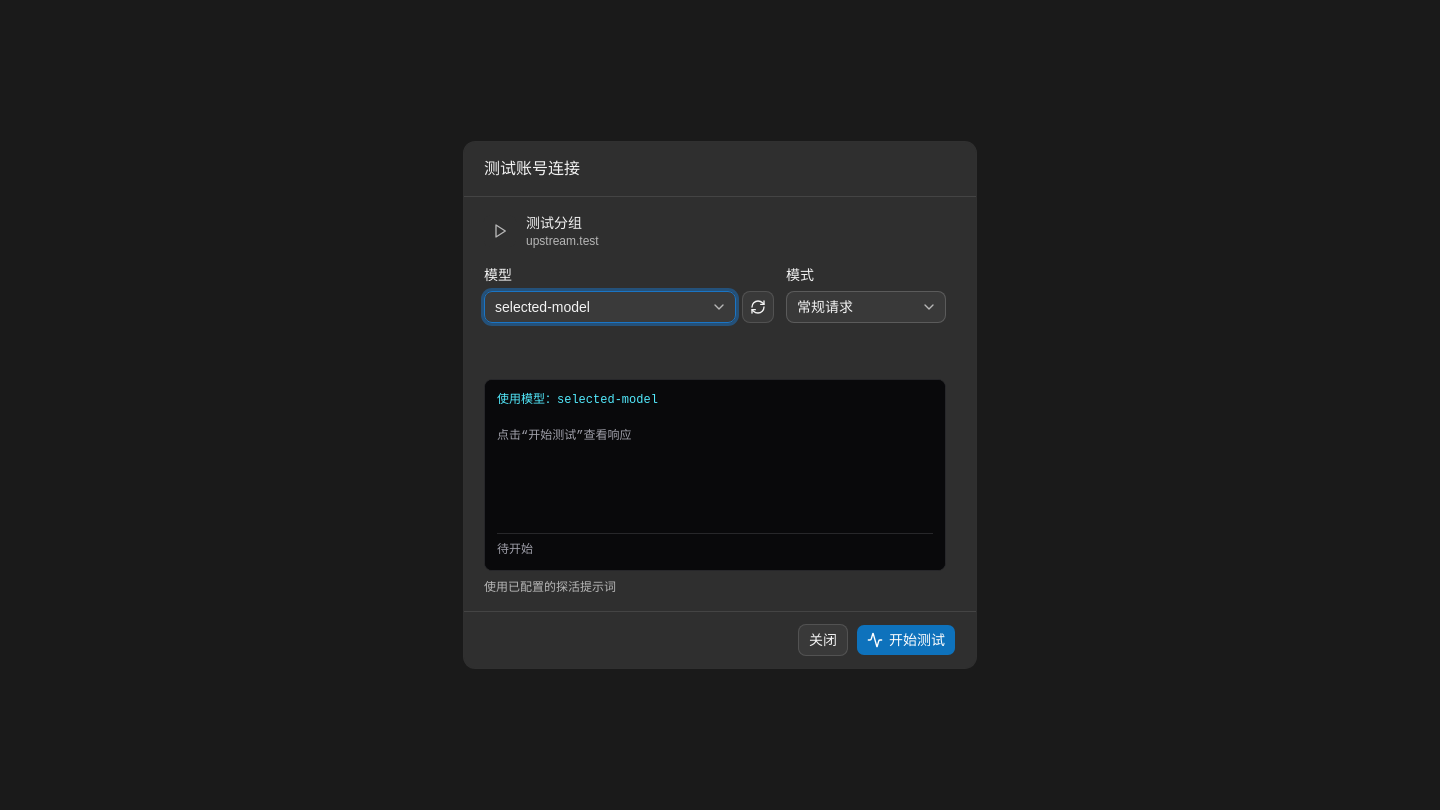
能力题未通过但请求完整时显示检测完成并保留能力异常
expect the button "开始测试" is enabled: met, box [856,624,956,656]
Click the dropdown named "选择测试模式" at (866, 307), box [786,291,946,323]
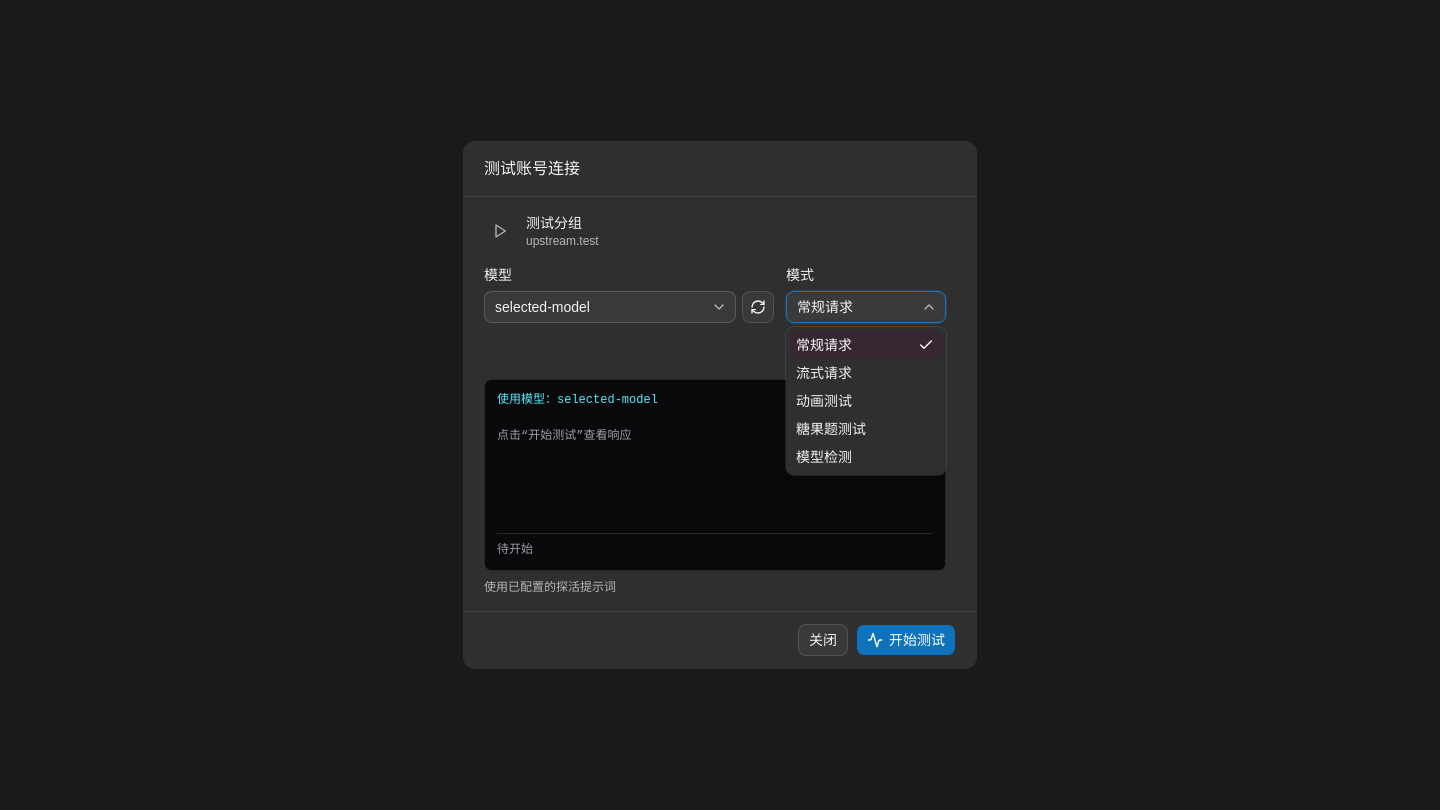
Click the option "模型检测" at (824, 457), box [796,449,852,465]
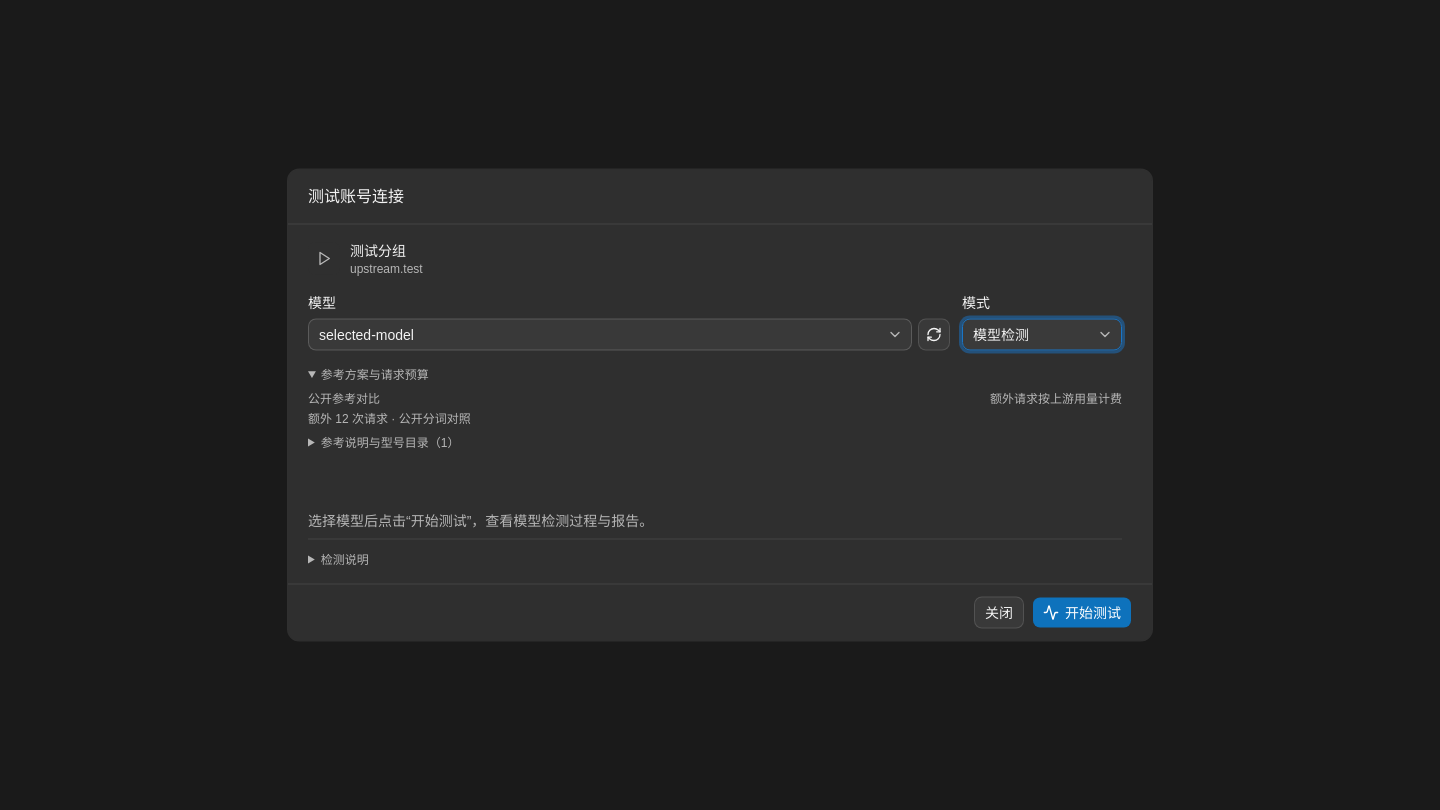
Click the button "开始测试" at (1082, 612), box [1032,596,1132,628]
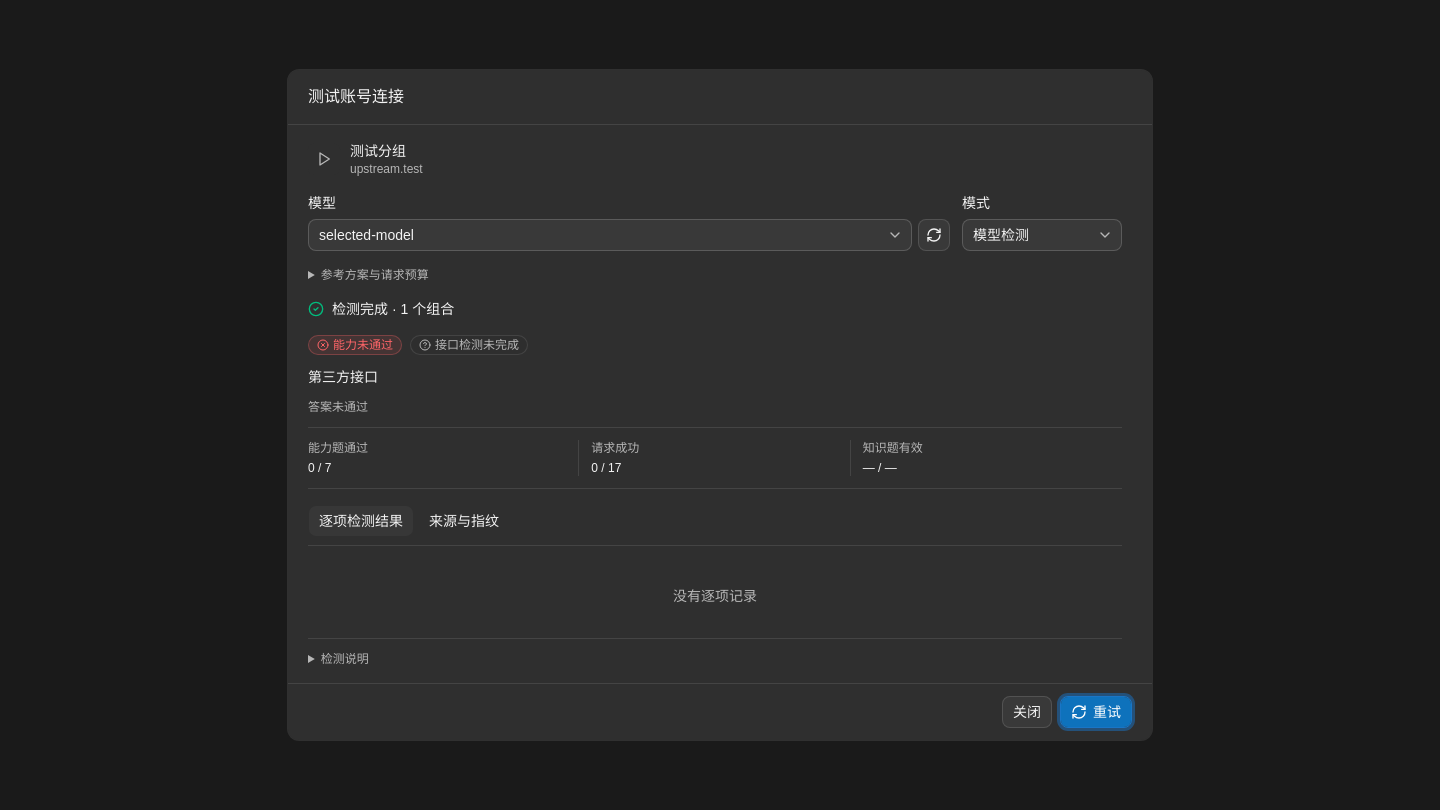
expect the button "重试" is enabled: met, box [1060,696,1132,728]
expect the text "检测完成 · 1 个组合" is shown: met, box [308,301,454,317]
expect the text "能力未通过" is shown: met, box [333,337,393,353]
